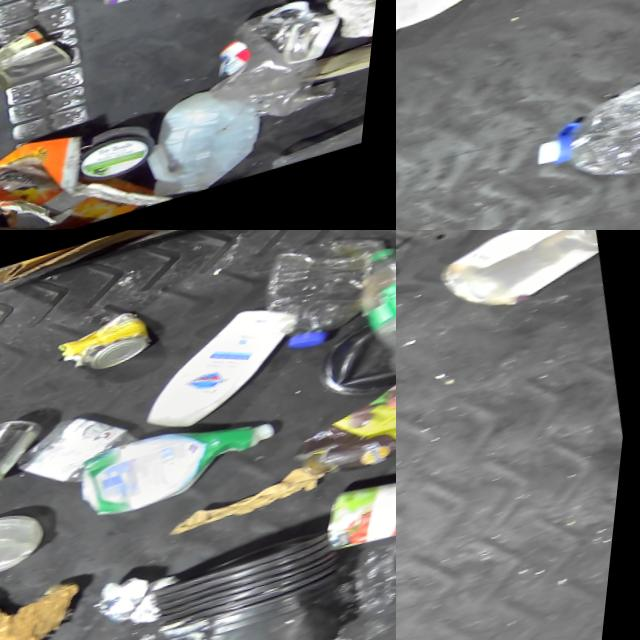can: (50, 306, 163, 386), (315, 466, 396, 567), (0, 20, 89, 101), (0, 409, 60, 500), (99, 0, 226, 18), (396, 6, 406, 66)
milk_jug: (140, 79, 292, 214), (396, 0, 510, 54)
plastic_bottle: (523, 47, 640, 215), (253, 230, 396, 364), (343, 230, 396, 404)
